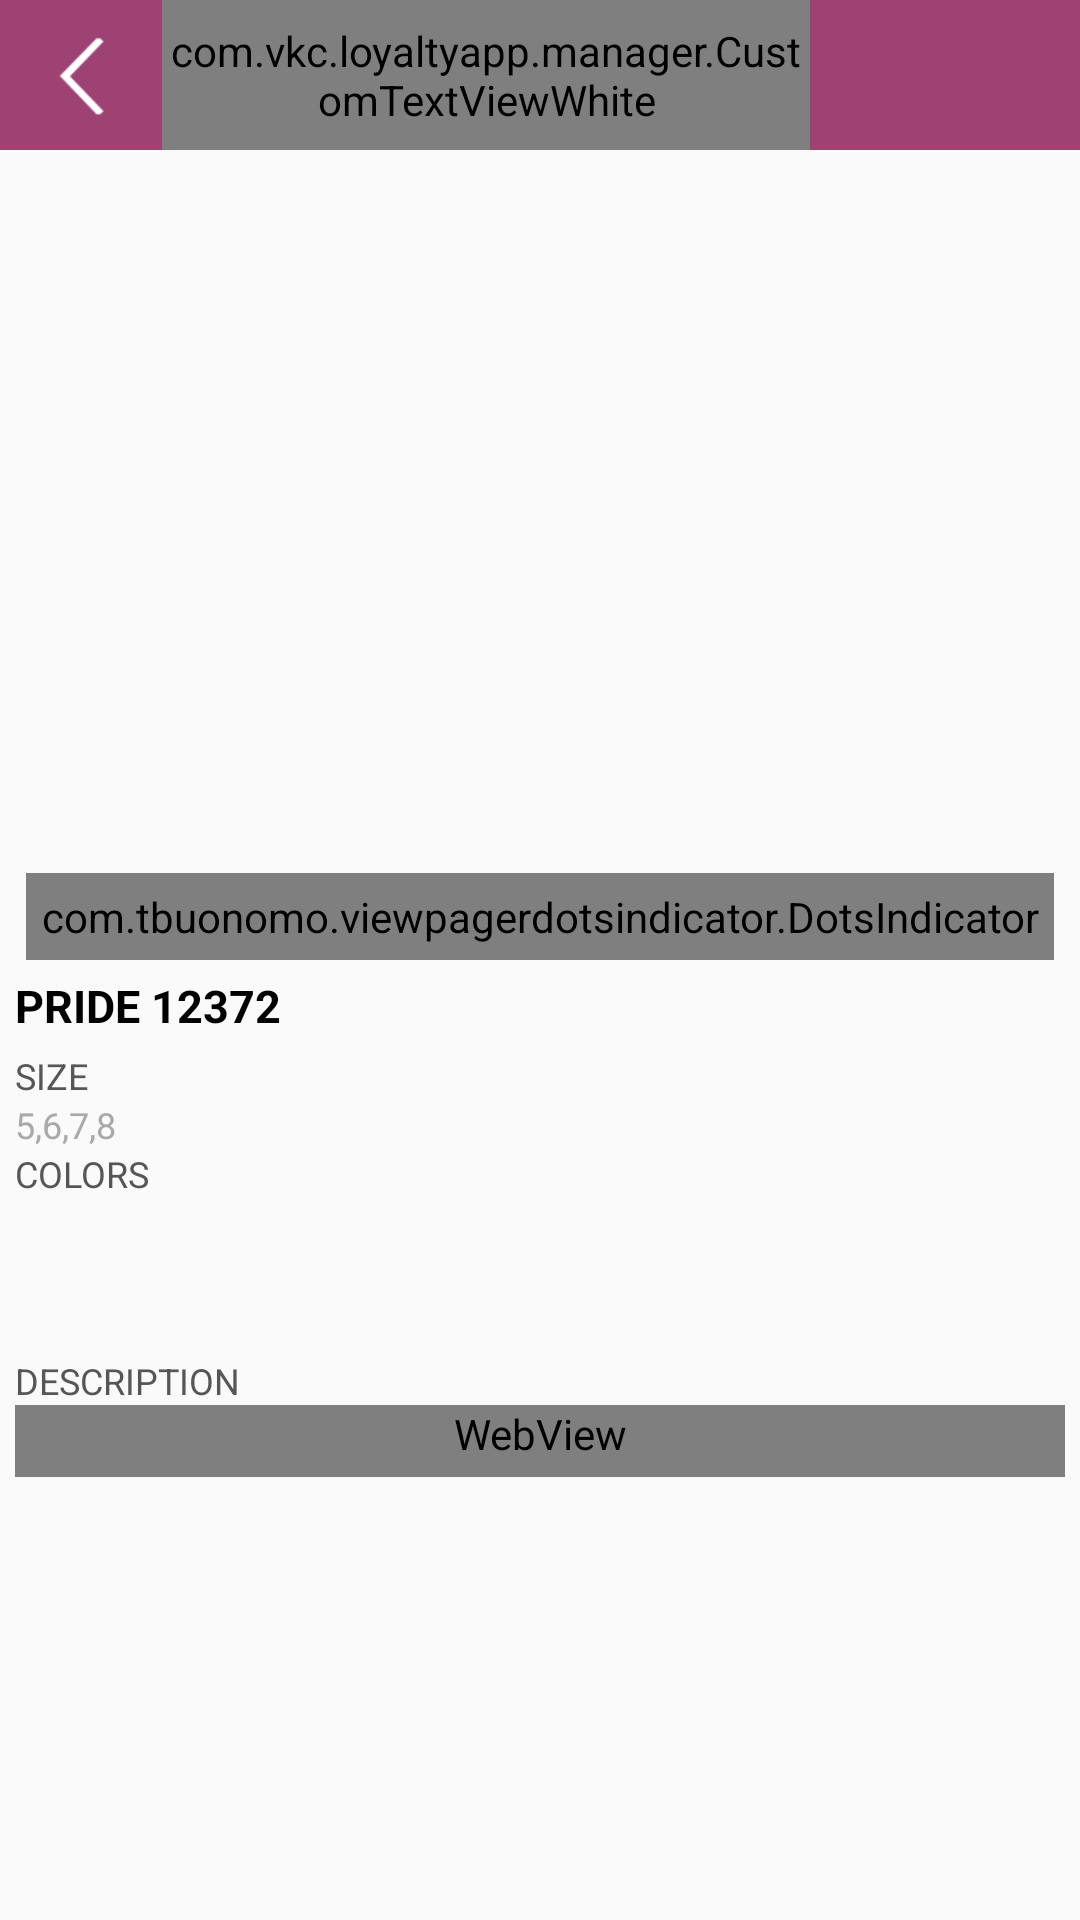

Icon click points for this 1080×1920 phone screenshot, format point (x, y):
back: point (81, 75)
